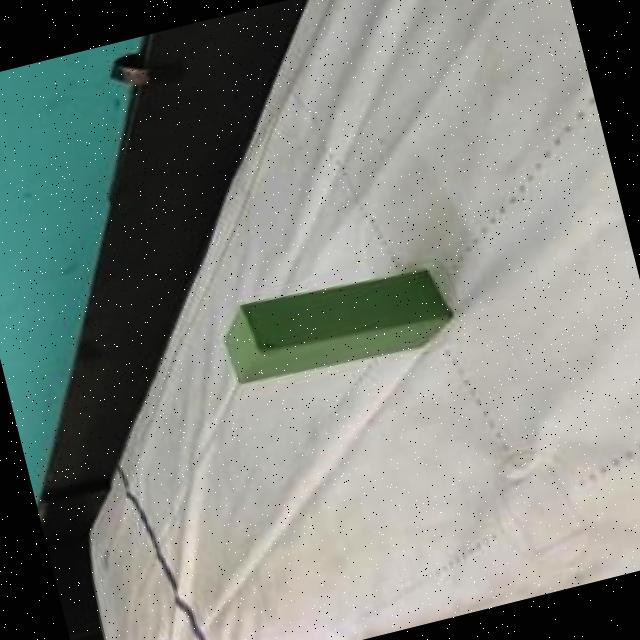greenbox: (209, 249, 460, 393)
